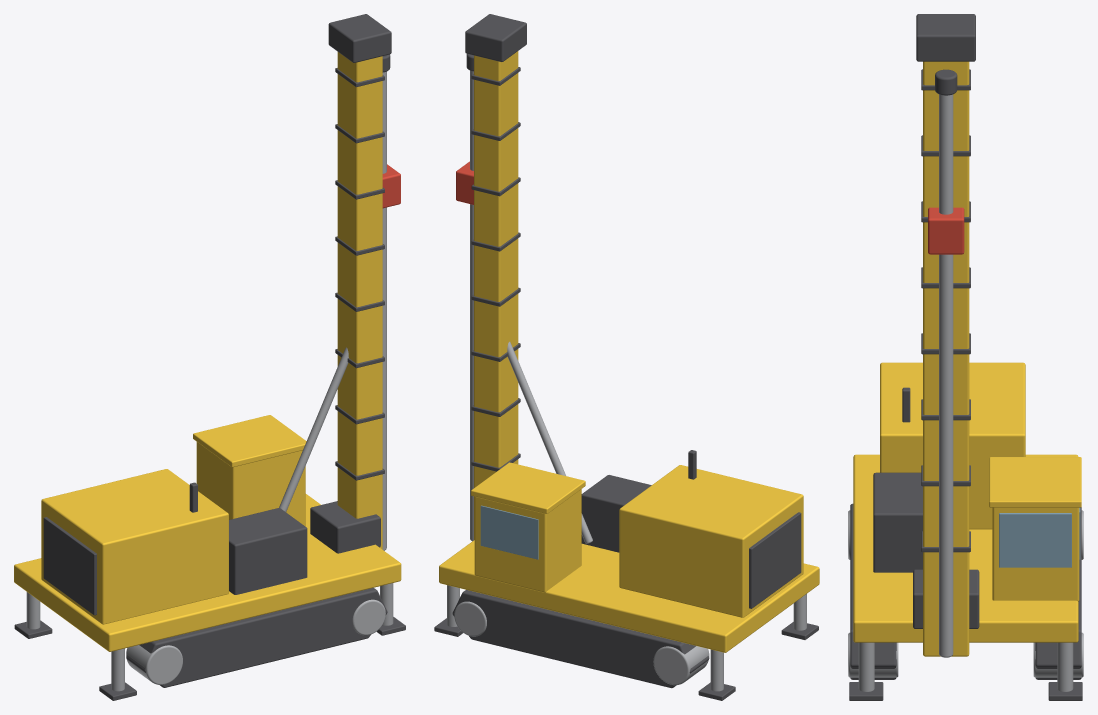
The model's file is drill_rig.glb.
3 renders of one model, left to right at view 1: azimuth 30°, elevation 25°; view 2: azimuth 150°, elevation 25°; view 3: azimuth 270°, elevation 25°, orthographic. The views are drawn at different scales.
Parts seen in each view (by area): view 1: DR_Mast, DR_PowerPack, DR_Deck, DR_Track_-1, DR_Compressor, DR_Cab, DR_CabRoof, DR_Radiator, DR_MastBase, DR_MastTop, DR_DrillPipe, DR_Track_-1_sprocket (+3 smaller); view 2: DR_PowerPack, DR_Mast, DR_Deck, DR_Track_1, DR_Cab, DR_CabRoof, DR_Radiator, DR_Compressor, DR_Cab_Side, DR_MastTop, DR_DrillPipe, DR_Track_1_sprocket (+3 smaller); view 3: DR_Mast, DR_Deck, DR_PowerPack, DR_DrillPipe, DR_Compressor, DR_CabRoof, DR_Cab, DR_Cab_Front, DR_MastTop, DR_RotaryHead, DR_Track_-1, DR_Track_1 (+8 smaller).
Part boxes in pixels (x1,y1,x2,y2): DR_Mast: [337, 52, 382, 549]; DR_PowerPack: [41, 469, 228, 624]; DR_Deck: [14, 494, 401, 651]; DR_Track_-1: [126, 588, 387, 687]; DR_Compressor: [229, 508, 307, 594]; DR_Cab: [196, 442, 305, 526]; DR_CabRoof: [193, 415, 306, 467]; DR_Radiator: [43, 517, 96, 615]; DR_MastBase: [310, 501, 380, 553]; DR_MastTop: [328, 14, 391, 62]; DR_DrillPipe: [382, 71, 386, 550]; DR_Track_-1_sprocket: [126, 645, 182, 684]; DR_PowerPack: [619, 465, 803, 617]; DR_Mast: [474, 51, 518, 539]; DR_Deck: [439, 540, 819, 652]; DR_Track_1: [452, 590, 709, 688]; DR_Cab: [474, 489, 581, 592]; DR_CabRoof: [471, 462, 585, 513]; DR_Radiator: [749, 512, 801, 608]; DR_Compressor: [581, 475, 651, 552]; DR_Cab_Side: [480, 505, 538, 559]; DR_MastTop: [465, 14, 526, 61]; DR_DrillPipe: [470, 70, 473, 541]; DR_Track_1_sprocket: [653, 646, 709, 685]; DR_Mast: [923, 61, 969, 656]; DR_Deck: [853, 454, 1078, 642]; DR_PowerPack: [880, 362, 1025, 529]; DR_DrillPipe: [939, 94, 953, 657]; DR_Compressor: [873, 472, 922, 572]; DR_CabRoof: [989, 457, 1081, 507]; DR_Cab: [992, 507, 1079, 601]; DR_Cab_Front: [999, 513, 1071, 567]; DR_MastTop: [916, 14, 975, 61]; DR_RotaryHead: [928, 207, 964, 254]; DR_Track_-1: [850, 503, 896, 679]; DR_Track_1: [1035, 507, 1081, 679].
Bounding box in the file's own units: 6.65 × 11.24 × 3.56.
